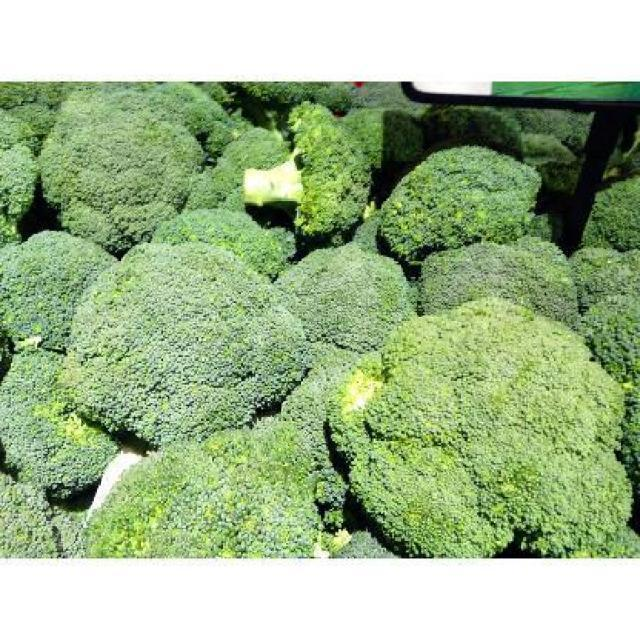Broccoli: (0, 78, 638, 555), (317, 294, 634, 554)
